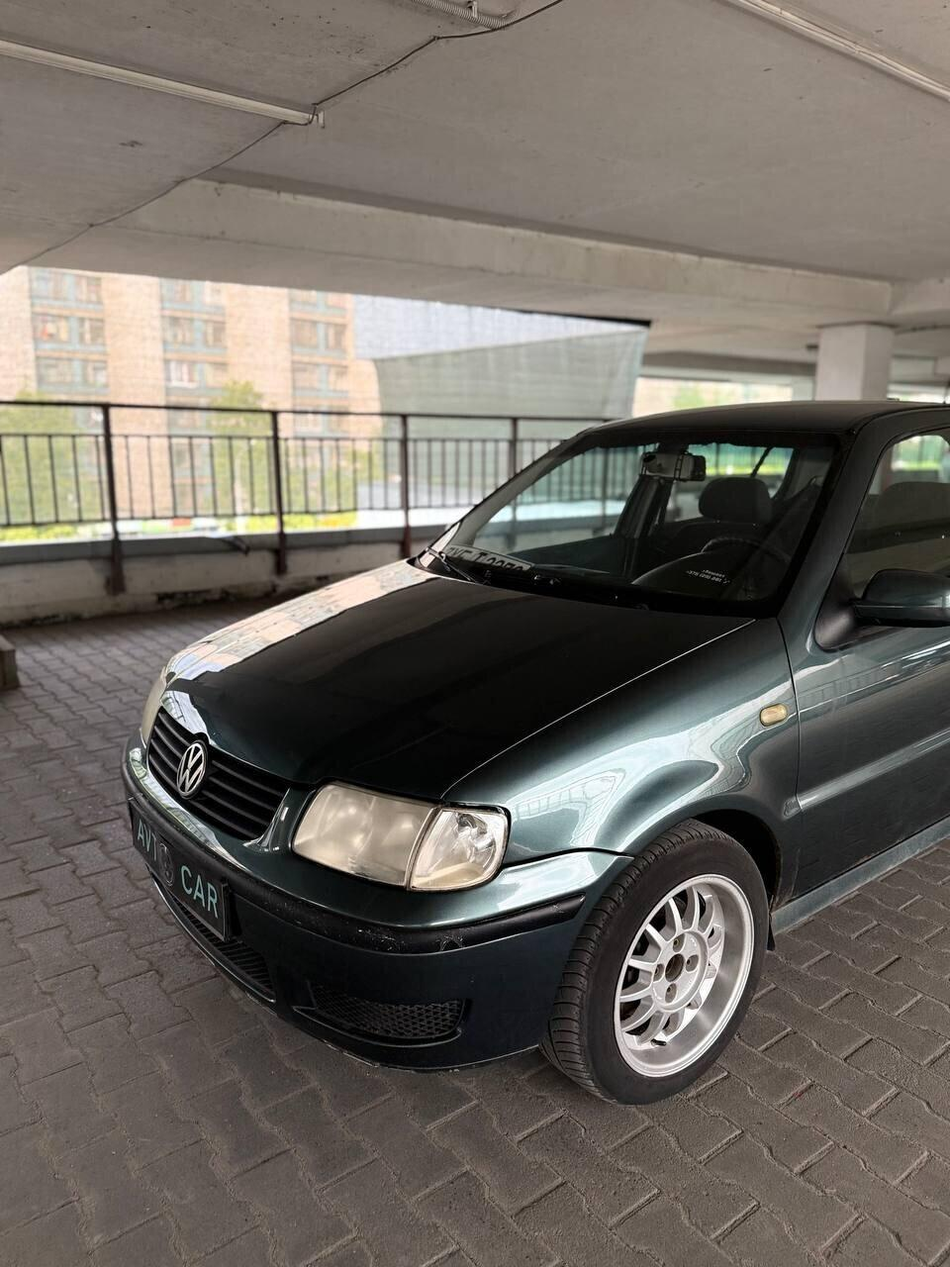Polo_2000-2002: (106, 384, 950, 1089)
